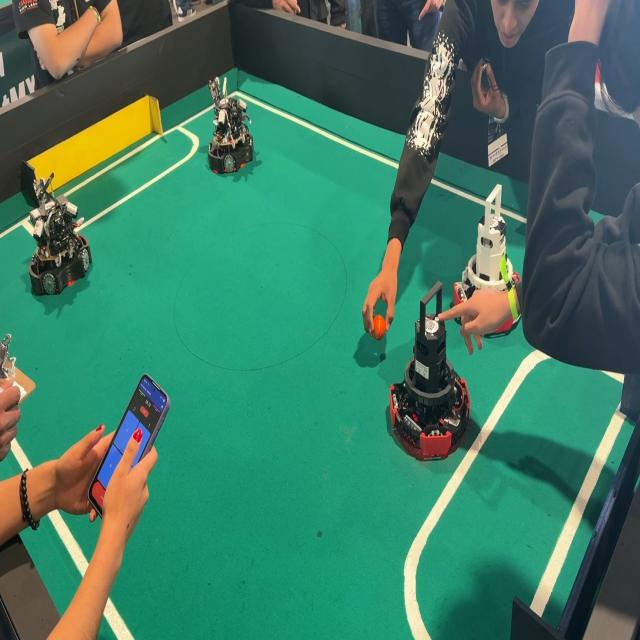Robot: (386, 278, 496, 477), (448, 172, 534, 334), (20, 159, 107, 315), (197, 62, 266, 190)
pelota: (364, 311, 388, 345)
